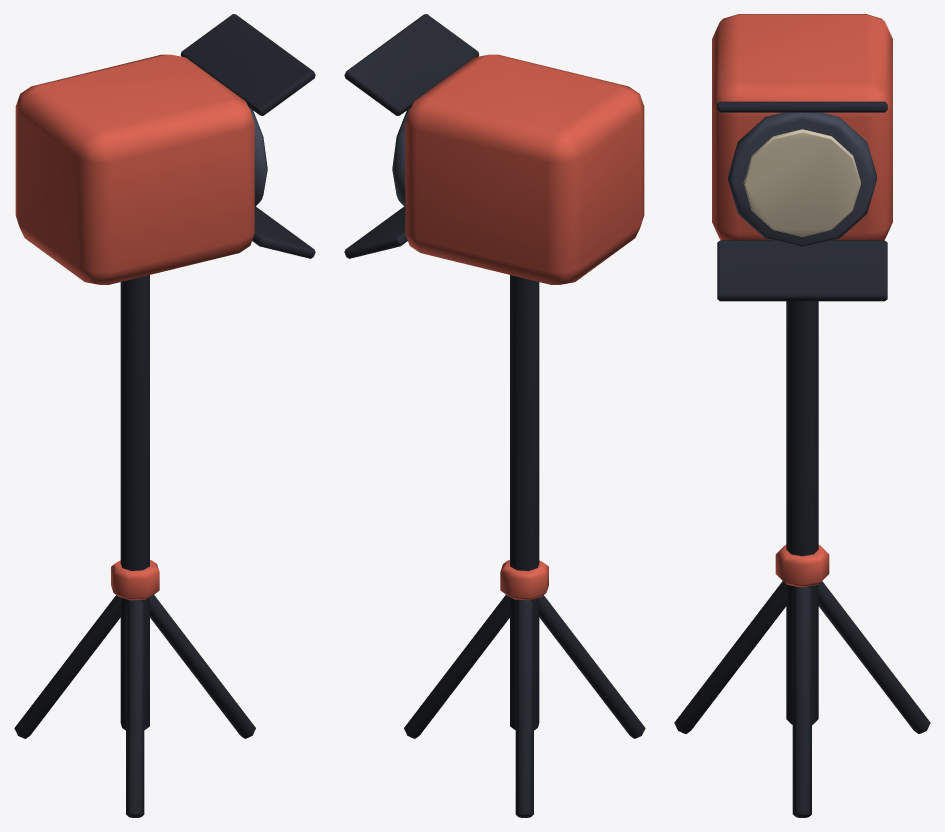
The model's file is SM_Prop_SpareLight_Coral.fbx.
The picture shows the model from 3 angles, left to right: view 1: azimuth 30°, elevation 25°; view 2: azimuth 150°, elevation 25°; view 3: azimuth 270°, elevation 25°; orthographic projection. The views are drawn at different scales.
Parts seen in each view (by area): view 1: SM_Prop_SpareLight_Coral; view 2: SM_Prop_SpareLight_Coral; view 3: SM_Prop_SpareLight_Coral.
Boxes of the visible parts, left/top/right/bottom form: SM_Prop_SpareLight_Coral: left=14, top=14, right=315, bottom=817; SM_Prop_SpareLight_Coral: left=344, top=14, right=645, bottom=817; SM_Prop_SpareLight_Coral: left=674, top=14, right=930, bottom=817.
Bounding box in the file's own units: 52.63 × 152 × 48.26.
